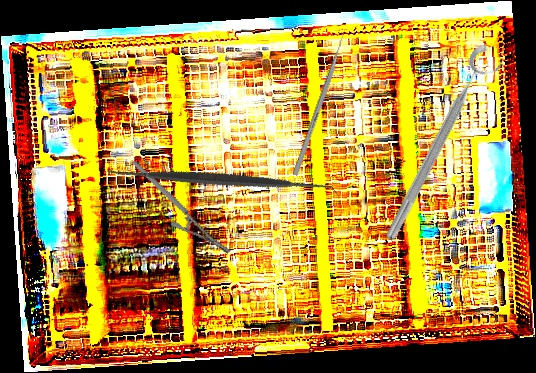Fixation Ring: (379, 40, 509, 250)
Needle Holder: (130, 139, 233, 275)
Pusher: (292, 27, 349, 177)
Spatula Surgical: (99, 59, 342, 301)
